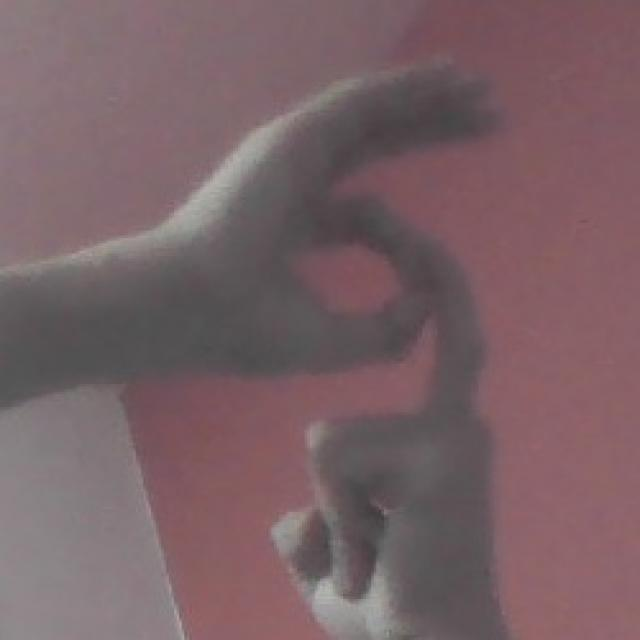Alphabet-P: (150, 48, 536, 640)
